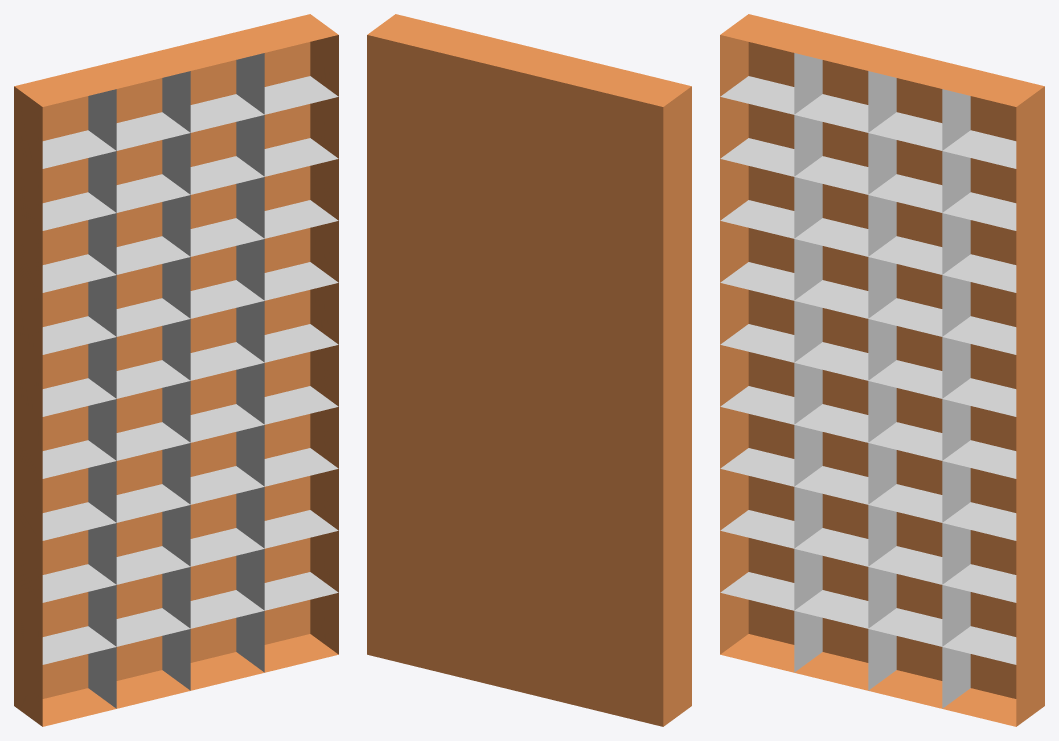
File: almirah.glb
The picture shows the model from 3 angles, left to right: view 1: azimuth 30°, elevation 25°; view 2: azimuth 150°, elevation 25°; view 3: azimuth 330°, elevation 25°; orthographic projection.
Visible parts, largest first — view 1: Almirah; view 2: Almirah; view 3: Almirah.
Boxes of the visible parts, x1=… form: Almirah: x1=14, y1=14, x2=338, y2=726; Almirah: x1=367, y1=14, x2=691, y2=726; Almirah: x1=720, y1=14, x2=1044, y2=726.
Bounding box in the file's own units: 6 × 12 × 0.9998.
